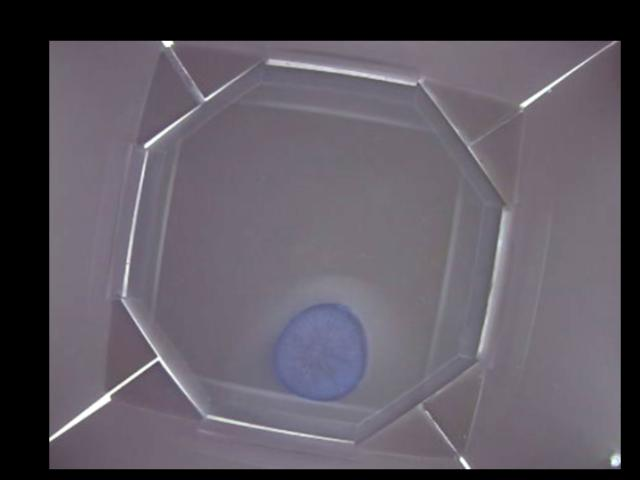Mooli: (272, 300, 368, 403)
